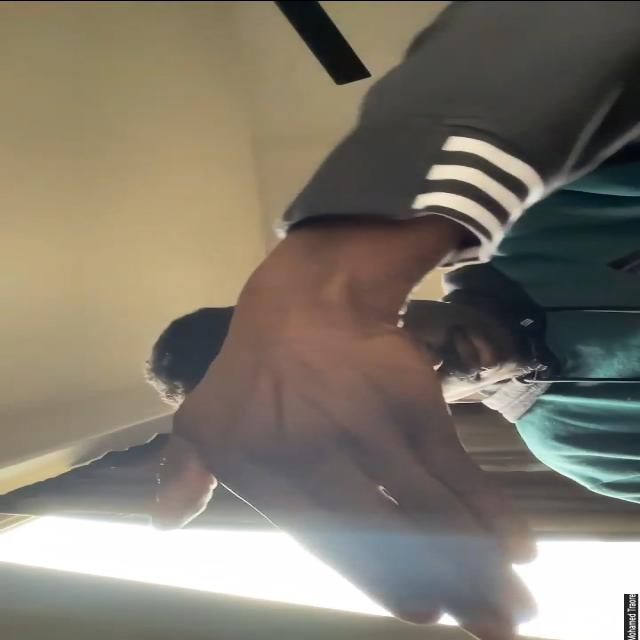Paper: (152, 311, 537, 640)
